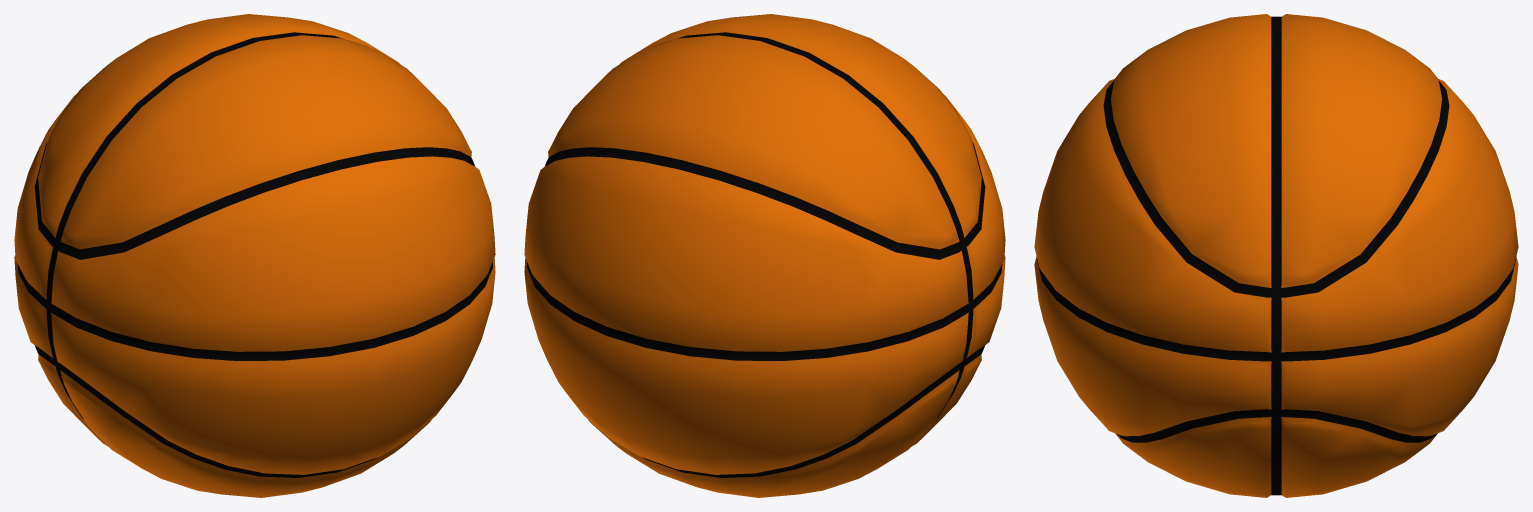
File: basketball.glb
3 renders of one model, left to right at view 1: azimuth 30°, elevation 25°; view 2: azimuth 150°, elevation 25°; view 3: azimuth 270°, elevation 25°, orthographic.
Parts seen in each view (by area): view 1: Cube_0; view 2: Cube_0; view 3: Cube_0.
Boxes of the visible parts, x1,y1,x2,y2 form: Cube_0: (14,14,495,497); Cube_0: (524,14,1005,497); Cube_0: (1034,14,1518,497).
Size of the model in its own units: 1.63 by 1.64 by 1.64.
